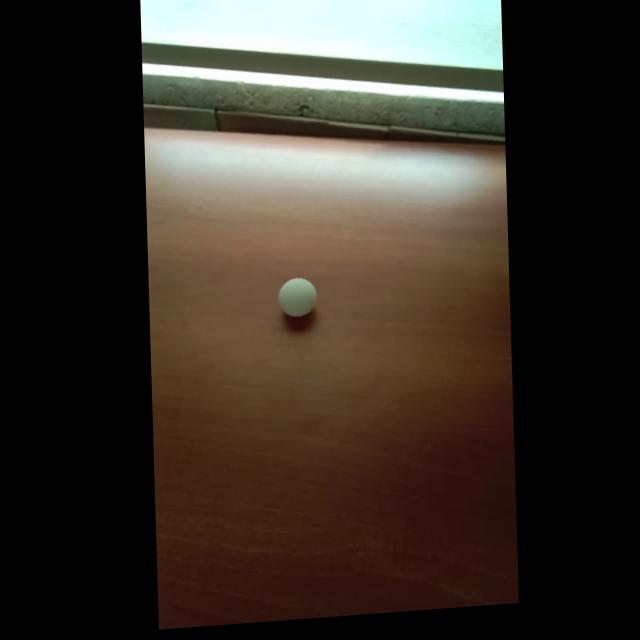white ball: (277, 275, 318, 318)
